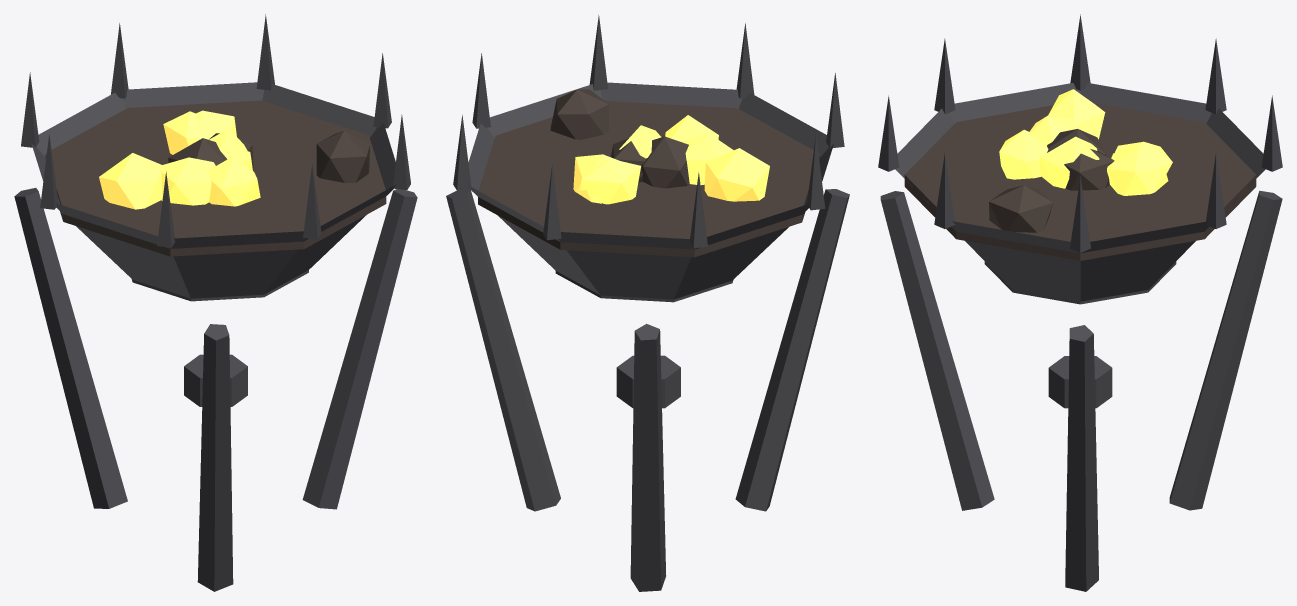
File: brazier.glb
3 views of the same model, side by side, from view 1: azimuth 30°, elevation 25°; view 2: azimuth 150°, elevation 25°; view 3: azimuth 270°, elevation 25° (orthographic).
Parts seen in each view (by area): view 1: brazier; view 2: brazier; view 3: brazier.
Part boxes in pixels (bbox=[...]): brazier: bbox=[14, 14, 417, 591]; brazier: bbox=[446, 15, 849, 591]; brazier: bbox=[878, 14, 1282, 591].
Bounding box in the file's own units: 1.62 × 1.82 × 1.52.
